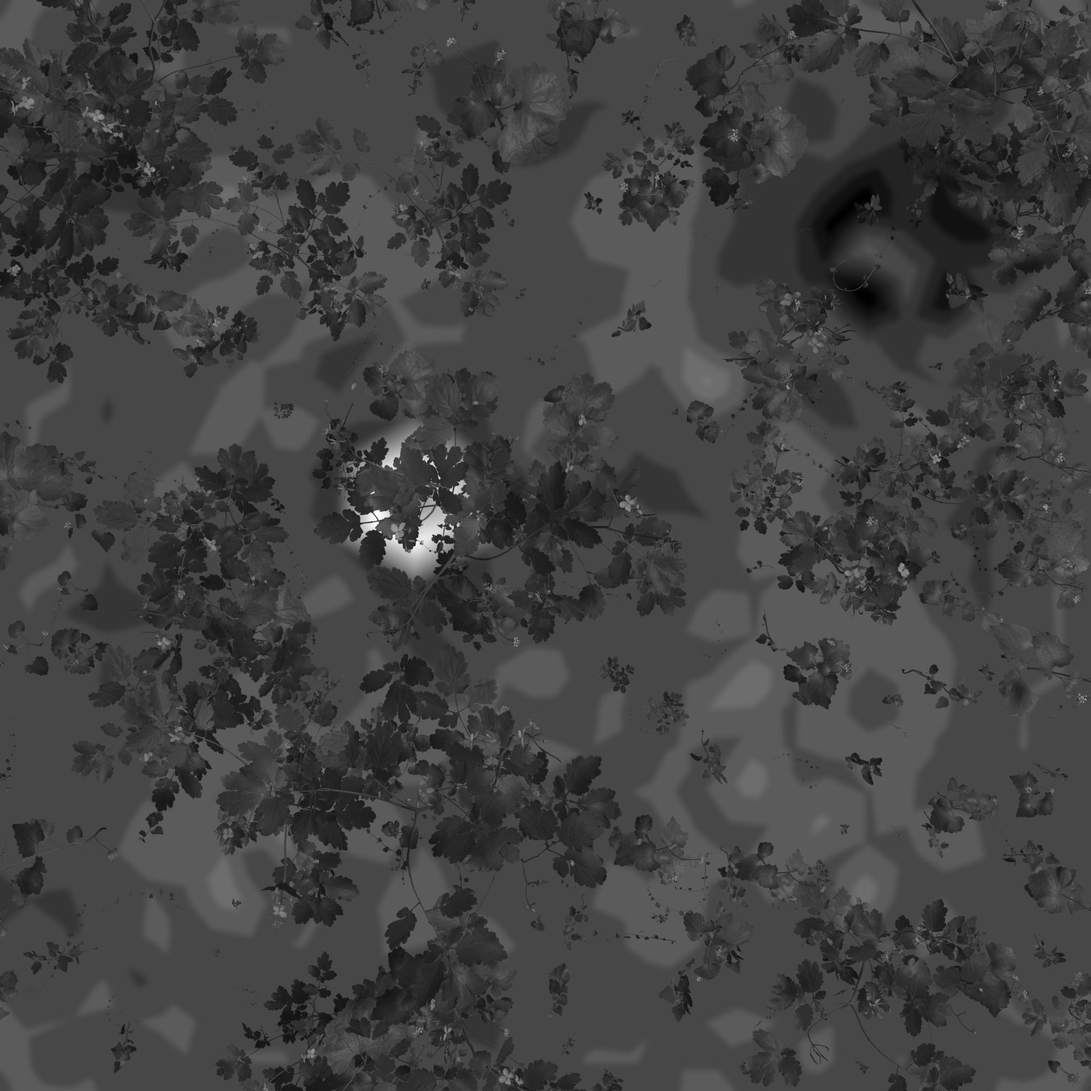landmine: (802, 144, 993, 340), (322, 415, 510, 583)
